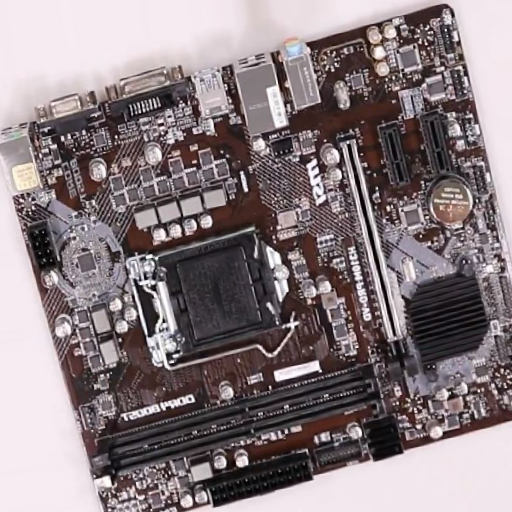CPU: (131, 224, 287, 369)
GPU: (339, 134, 420, 378)
MOTHERBOARD: (1, 6, 507, 512)
RAM: (95, 366, 389, 489)
